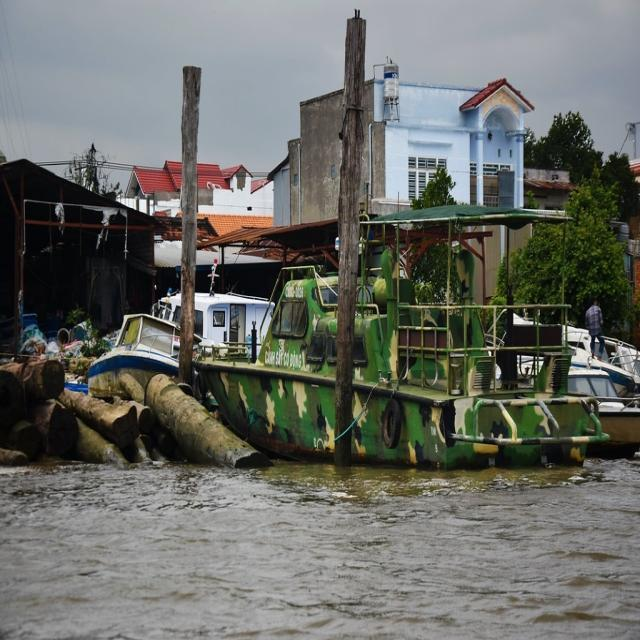boat: (180, 264, 610, 483)
